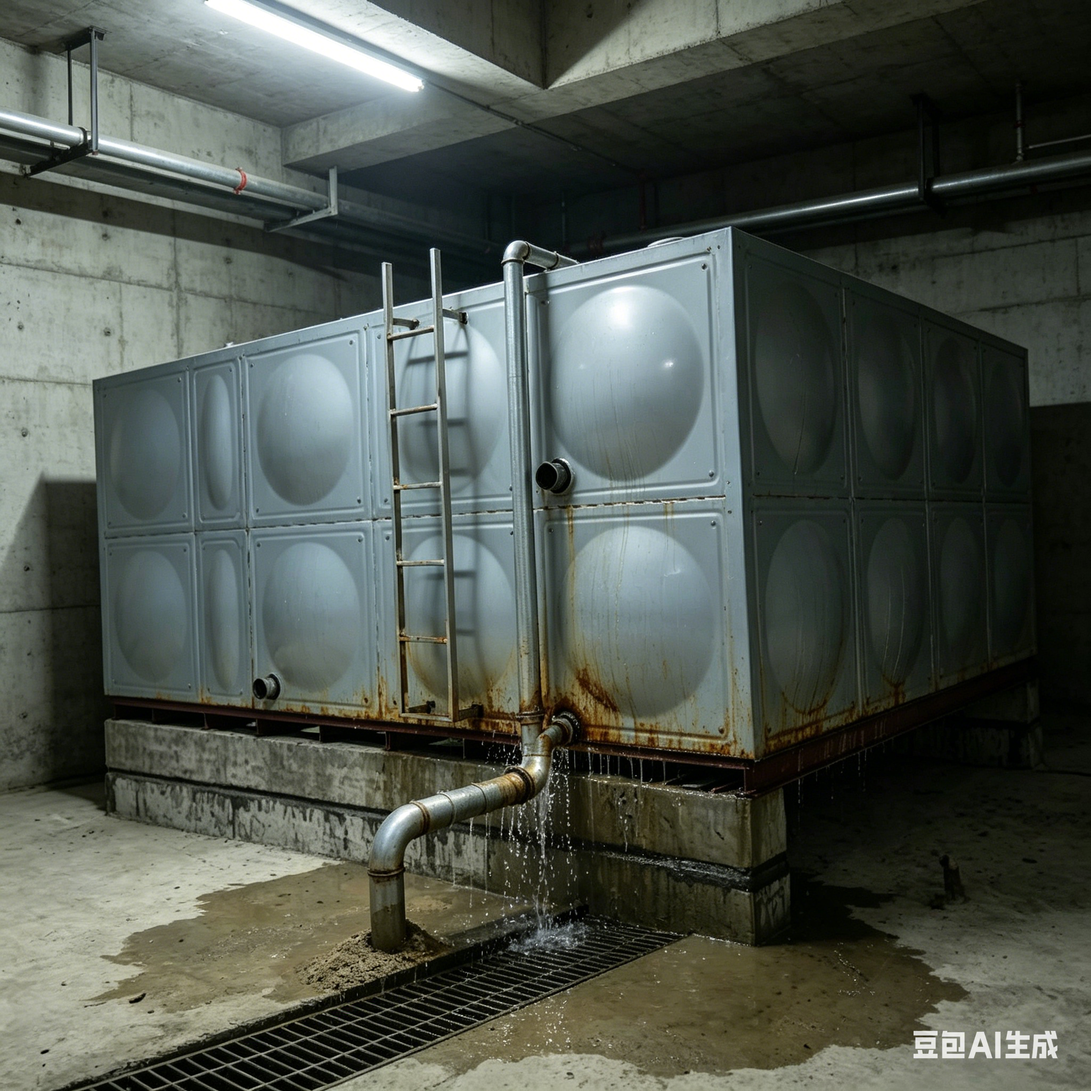Leakage: (608, 750, 961, 1083), (479, 696, 600, 1049), (166, 888, 475, 1007), (245, 828, 449, 884), (118, 917, 170, 1011)
